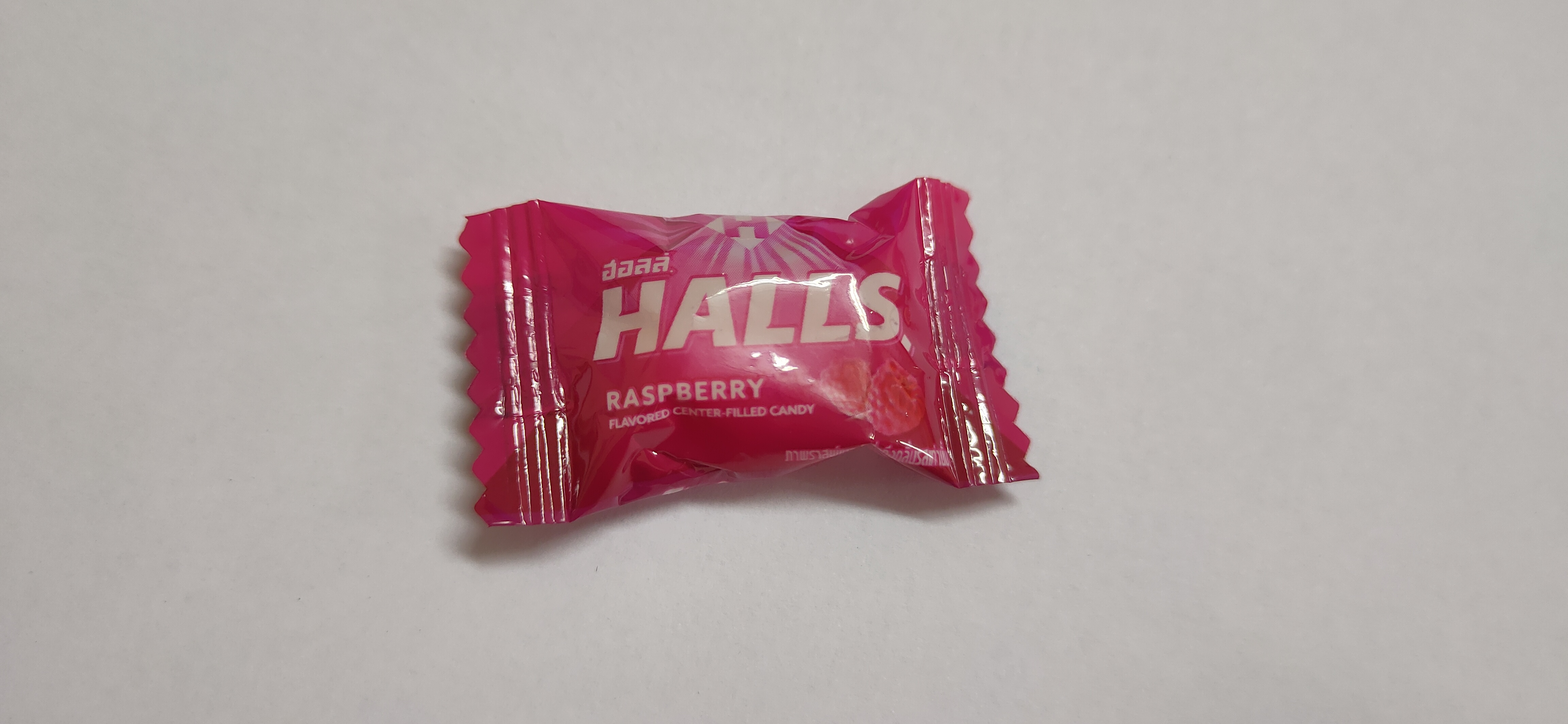plastic: (423, 161, 1065, 568)
